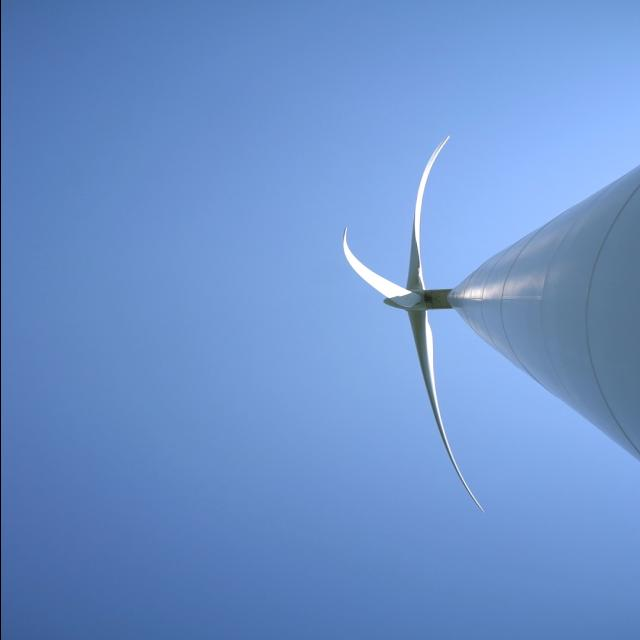blade 1: (312, 224, 375, 284)
blade 2: (384, 354, 488, 518)
blade 3: (383, 100, 458, 270)
